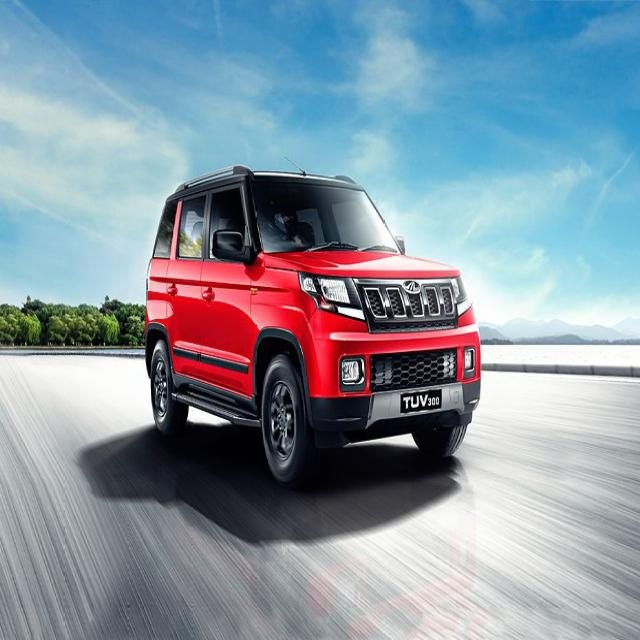light_vehicle: (141, 162, 480, 478)
